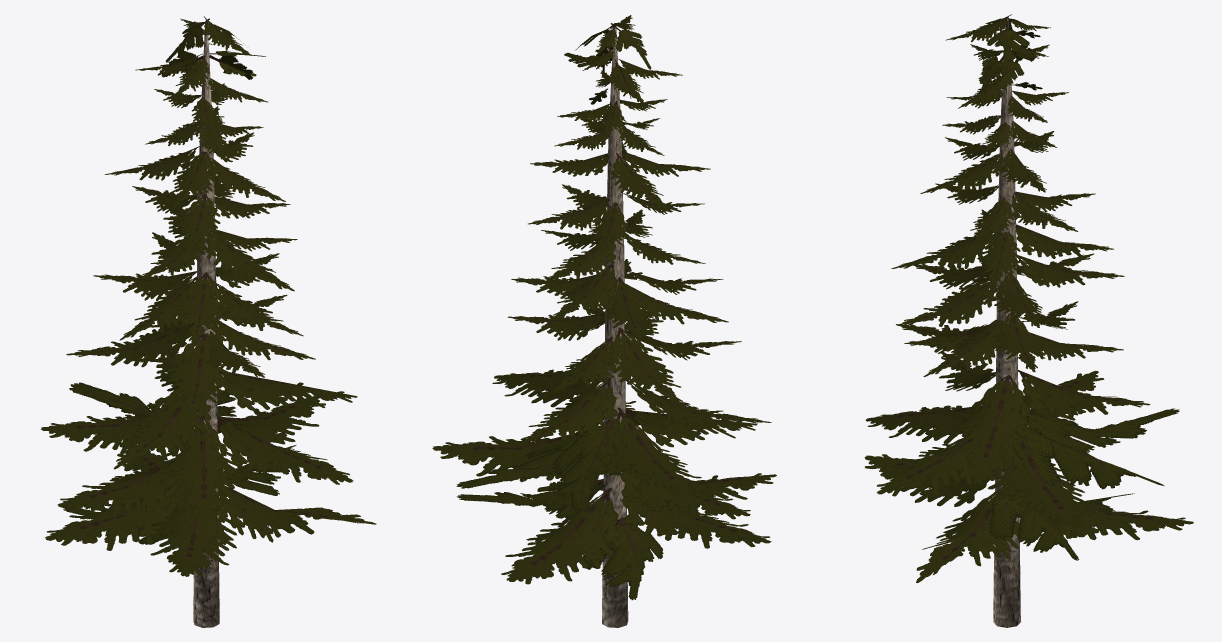
Rendered from Tree_Pine.obj.
3 views of the same model, side by side, from view 1: azimuth 30°, elevation 25°; view 2: azimuth 150°, elevation 25°; view 3: azimuth 270°, elevation 25° (orthographic).
Parts seen in each view (by area): view 1: Trunk.001_Circle.009; view 2: Trunk.001_Circle.009; view 3: Trunk.001_Circle.009.
Boxes of the visible parts, <box> form: Trunk.001_Circle.009: <box>41,16,376,627</box>; Trunk.001_Circle.009: <box>432,15,776,627</box>; Trunk.001_Circle.009: <box>864,14,1193,627</box>.
Bounding box in the file's own units: 2.6 × 4.45 × 2.5.
Materials: 1 (1 with a texture image).
